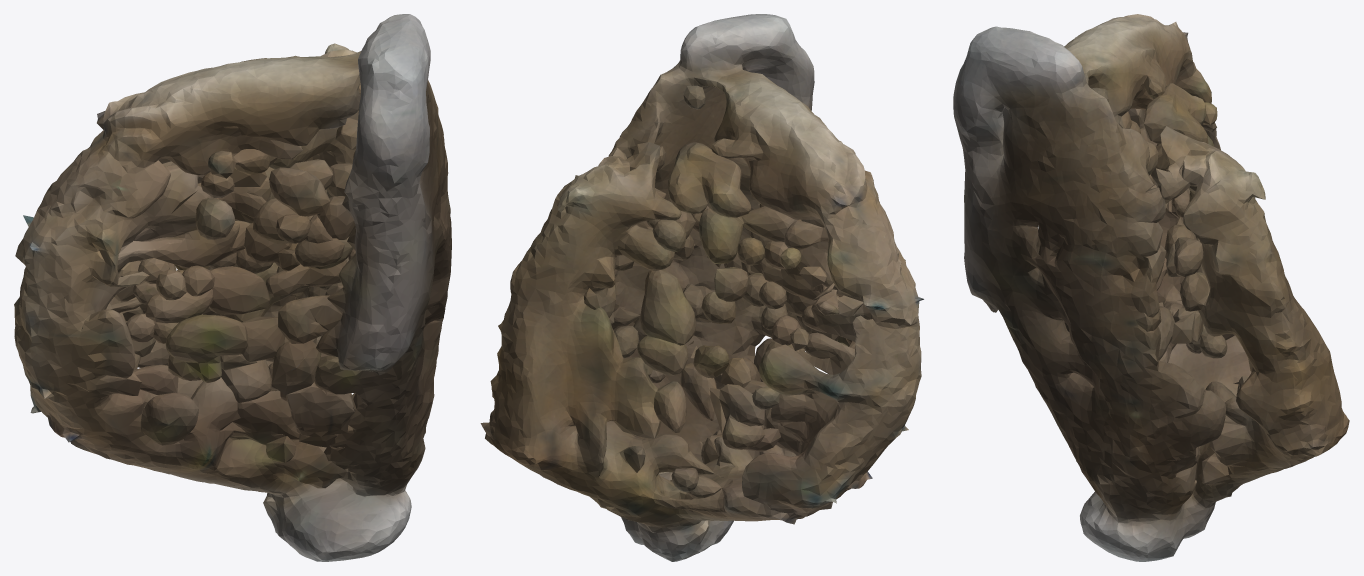
Rendered from IMG_SEG_25.glb.
3 views of the same model, side by side, from view 1: azimuth 30°, elevation 25°; view 2: azimuth 150°, elevation 25°; view 3: azimuth 270°, elevation 25° (orthographic). The views are drawn at different scales.
Size of the model in its own units: 1.11 by 1.4 by 0.9812.
Materials: 1 (1 with a texture image).
